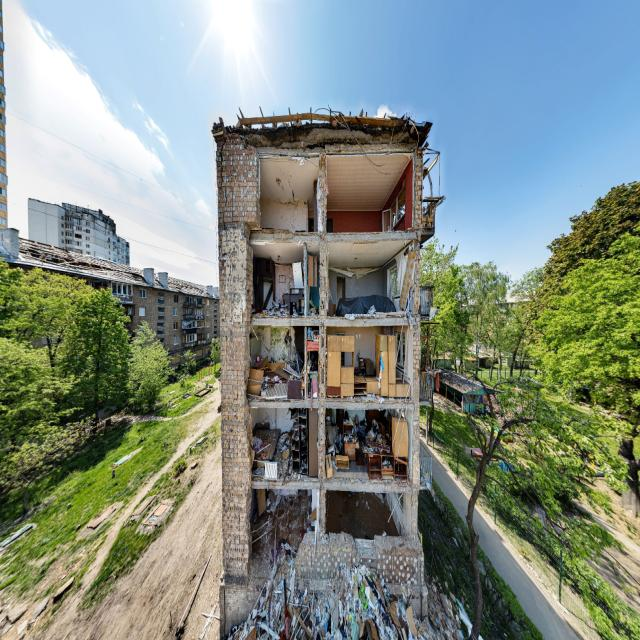building: (214, 129, 441, 639)
damage: (214, 129, 441, 639)
damaged_roof: (214, 15, 440, 133)
other: (227, 568, 431, 639)
roof: (214, 15, 440, 133)
